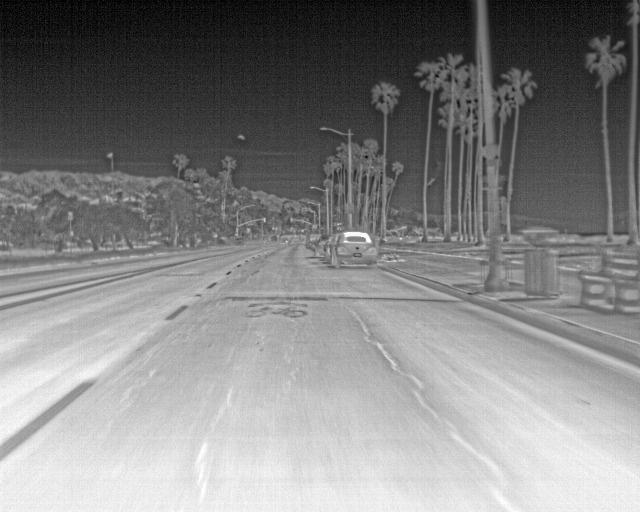bicycle: (331, 229, 380, 267), (322, 234, 342, 266), (315, 236, 329, 260)
